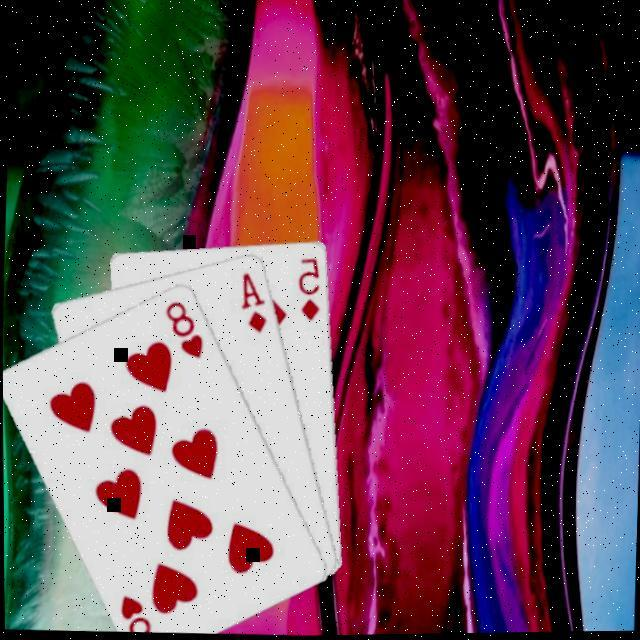5D: (292, 256, 322, 326)
8H: (159, 298, 206, 364), (114, 592, 159, 634)
AD: (236, 271, 270, 338)
